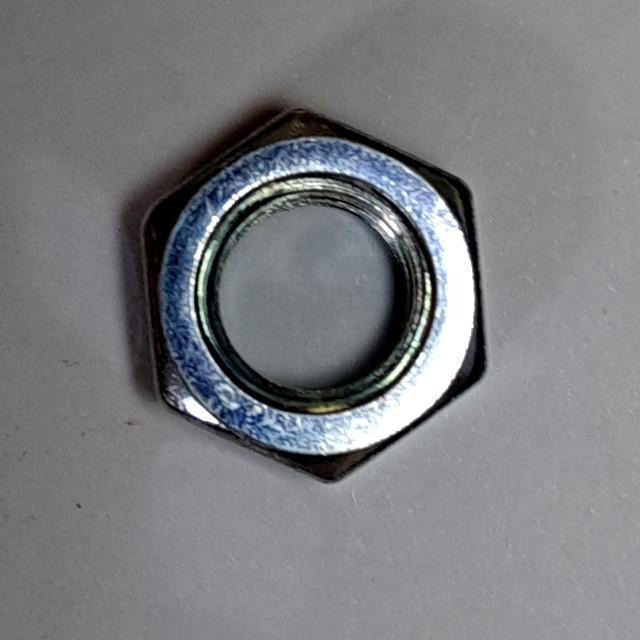Excellent: (120, 96, 518, 500)
